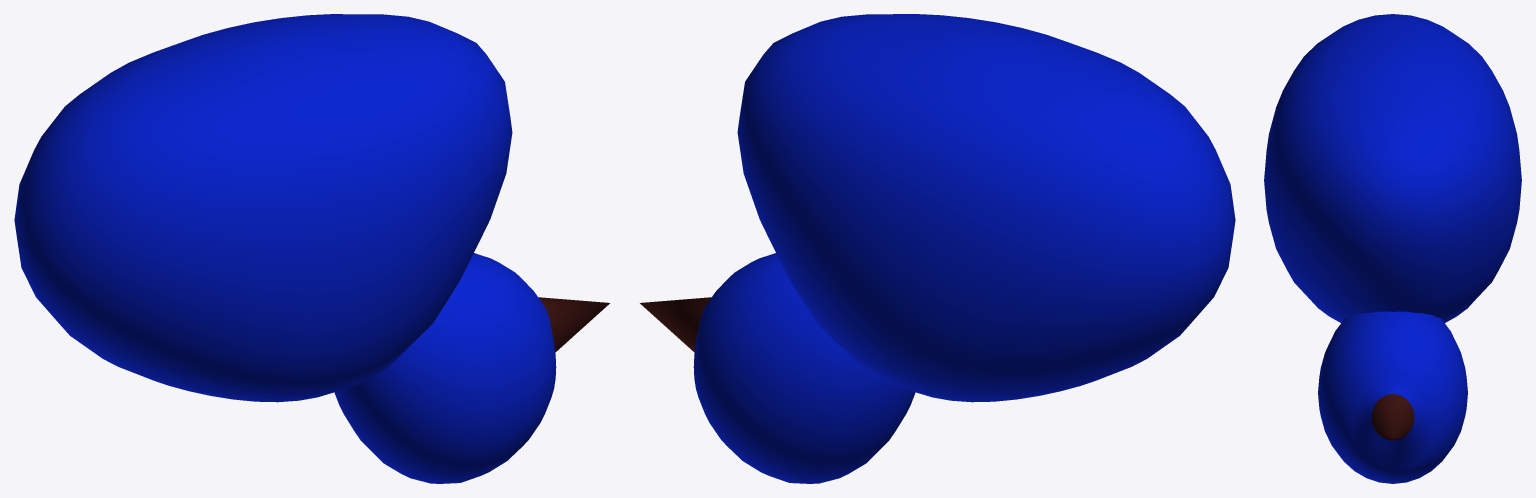
Rendered from birdy.obj.
The picture shows the model from 3 angles, left to right: view 1: azimuth 30°, elevation 25°; view 2: azimuth 150°, elevation 25°; view 3: azimuth 270°, elevation 25°; orthographic projection. The views are drawn at different scales.
Parts seen in each view (by area): view 1: Sphere; view 2: Sphere; view 3: Sphere.
Part boxes in pixels (x1,y1,x2,y2): Sphere: [14, 14, 609, 483]; Sphere: [640, 14, 1235, 483]; Sphere: [1264, 14, 1521, 483].
Size of the model in its own units: 1.96 by 1.53 by 0.9983.
